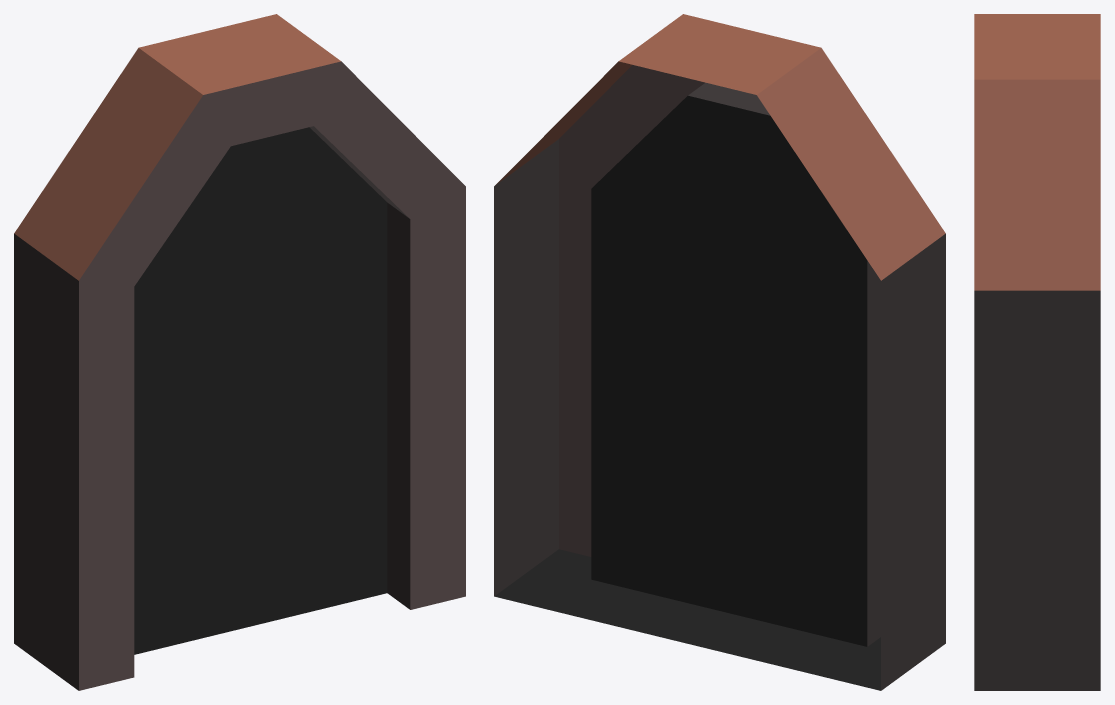
File: TB_D_Bd_Arch_DoorFrame_B.FBX
The picture shows the model from 3 angles, left to right: view 1: azimuth 30°, elevation 25°; view 2: azimuth 150°, elevation 25°; view 3: azimuth 270°, elevation 25°; orthographic projection. The views are drawn at different scales.
Visible parts, largest first — view 1: TB_D_Bd_Arch_DoorFrame_B; view 2: TB_D_Bd_Arch_DoorFrame_B; view 3: TB_D_Bd_Arch_DoorFrame_B.
Boxes of the visible parts, <box> form: TB_D_Bd_Arch_DoorFrame_B: <box>14,14,465,690</box>; TB_D_Bd_Arch_DoorFrame_B: <box>494,14,945,690</box>; TB_D_Bd_Arch_DoorFrame_B: <box>974,14,1100,690</box>.
Bounding box in the file's own units: 1.4 × 1.95 × 0.4047.
